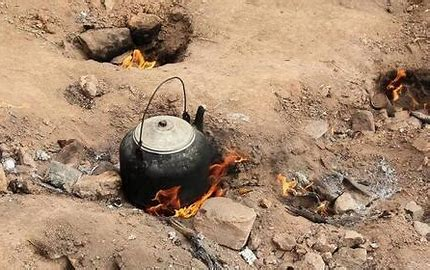Fire: (146, 148, 252, 221)
